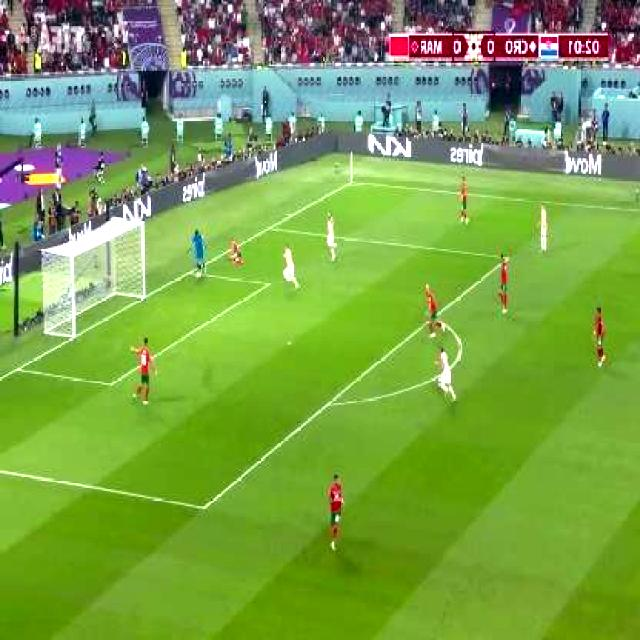bigarea_bottom_inner: (194, 492, 217, 522)
bigarea_top_inner: (505, 252, 512, 263)
bigarea_top_outter: (263, 218, 277, 236)
bottom_arc_area_intersection: (322, 391, 338, 414)
corner: (344, 175, 362, 188)
smallarea_bottom_inner: (103, 371, 122, 397)
smallarea_bottom_outter: (9, 357, 28, 378)
smallarea_top_inner: (262, 272, 278, 294)
smallarea_top_outter: (185, 263, 200, 280)
